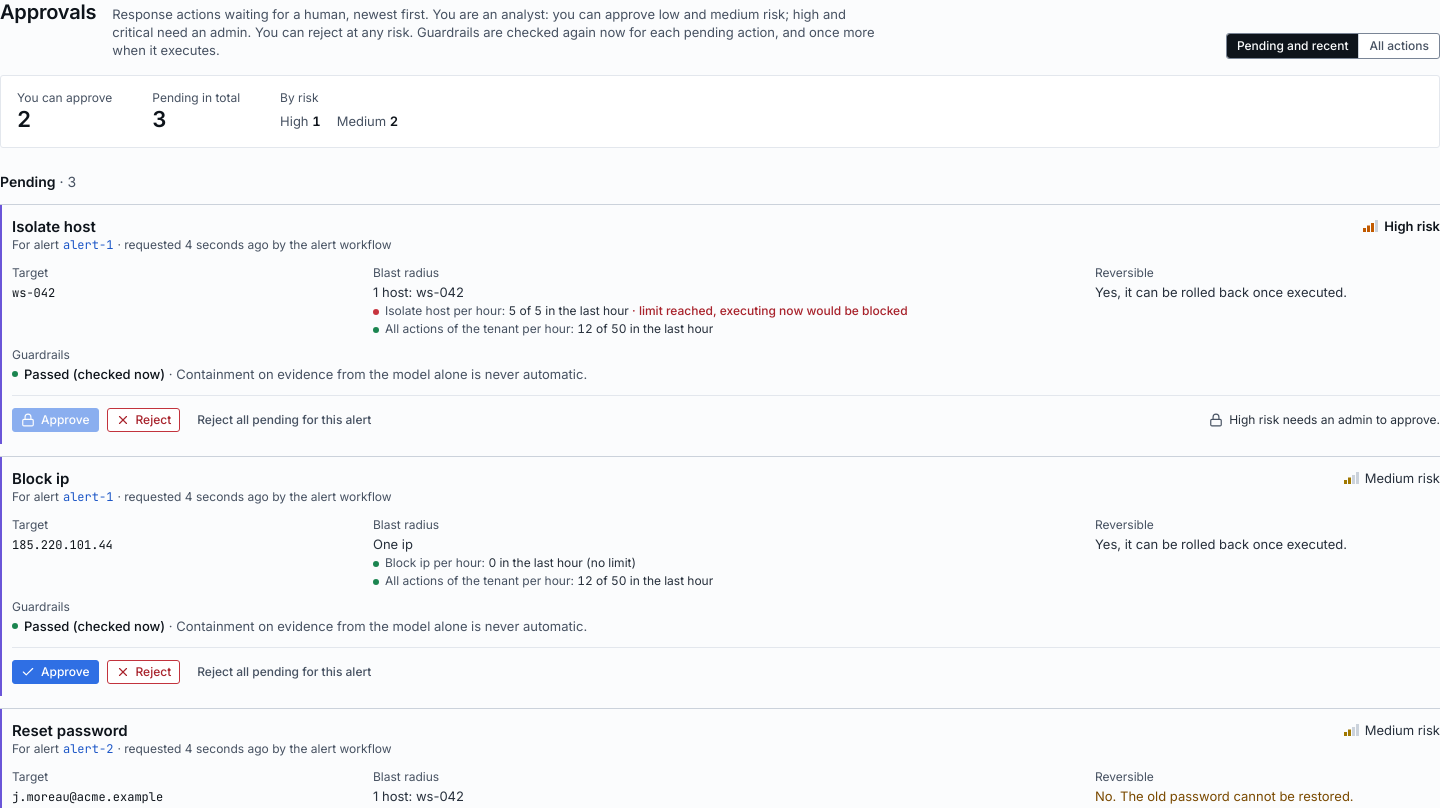
Test: ApprovalsPage: pending approvals › rejects one action, or all of the alert's pending actions at once
Later steps or results of the test are not shown.
Click the button "Reject" in the row of "High risk needs an admin to approve.". click: (143, 420)
box: left=106, top=408, right=180, bottom=432
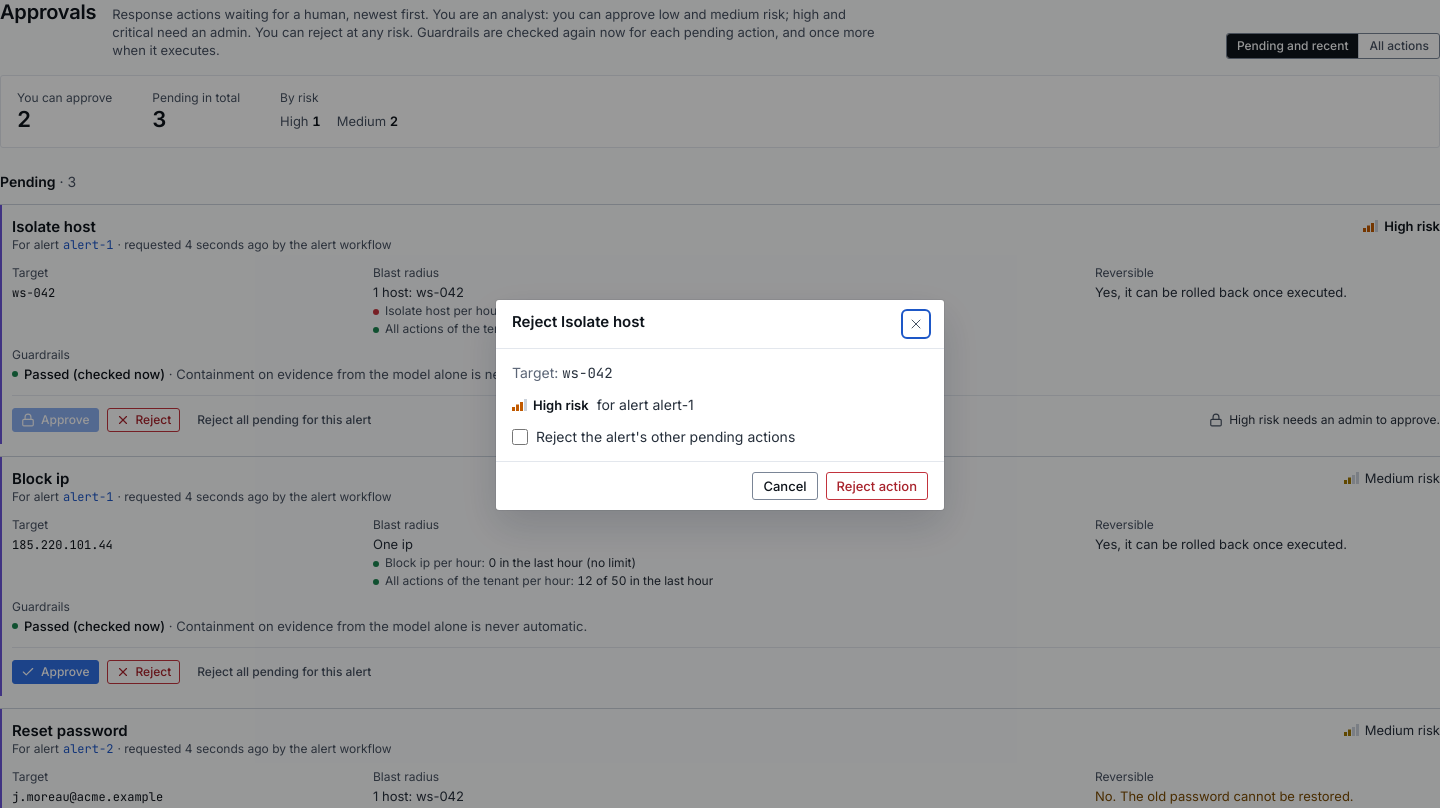
Expected: the checkbox labelled "Reject the alert's other pending actions" is not checked, left=512, top=429, right=528, bottom=445
Click the button "Reject action". click: (877, 486)
box: left=826, top=472, right=928, bottom=500
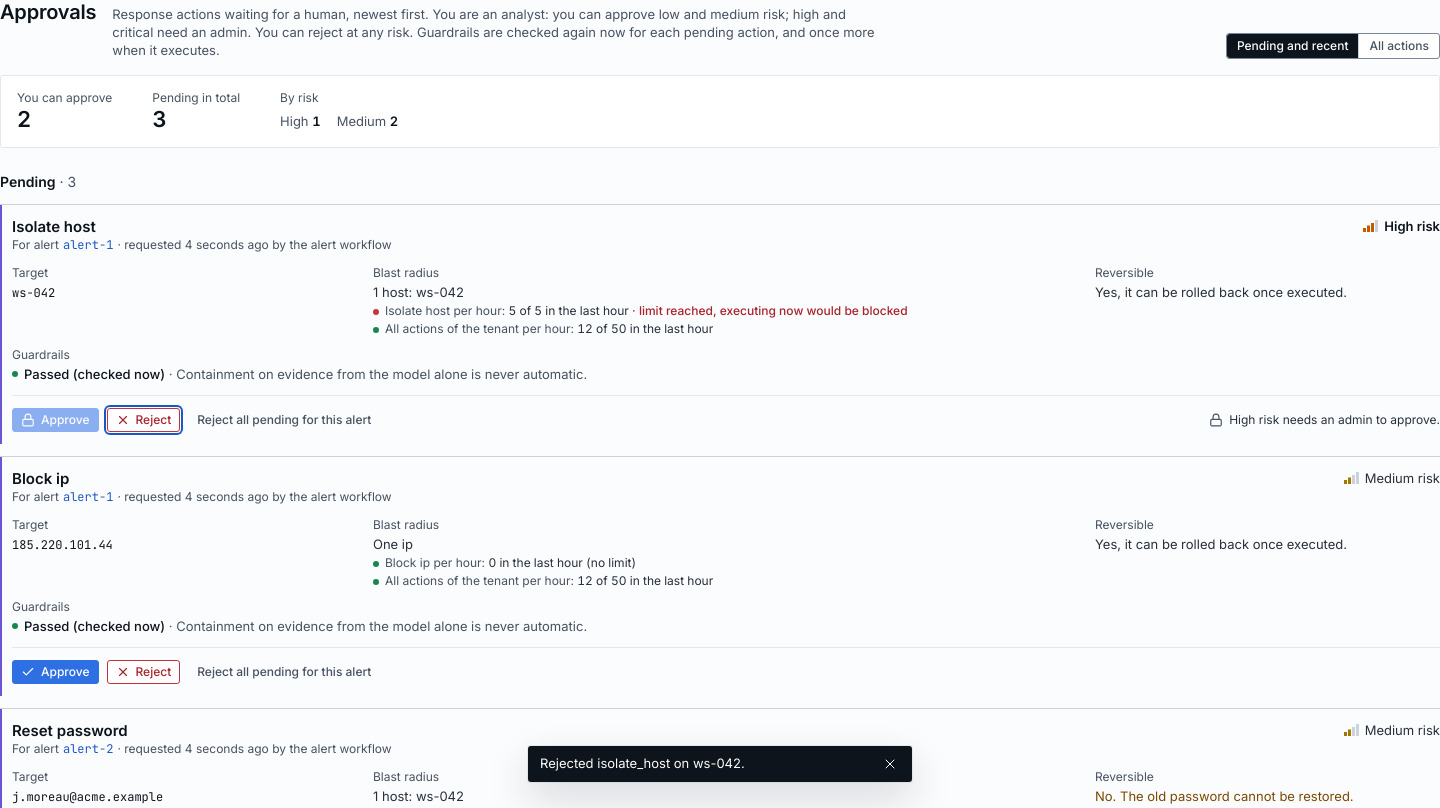
Expected: the dialog is gone
Click the button "Reject all pending for this alert" in the row of "High risk needs an admin to approve.". click: (284, 420)
box: left=188, top=408, right=380, bottom=432
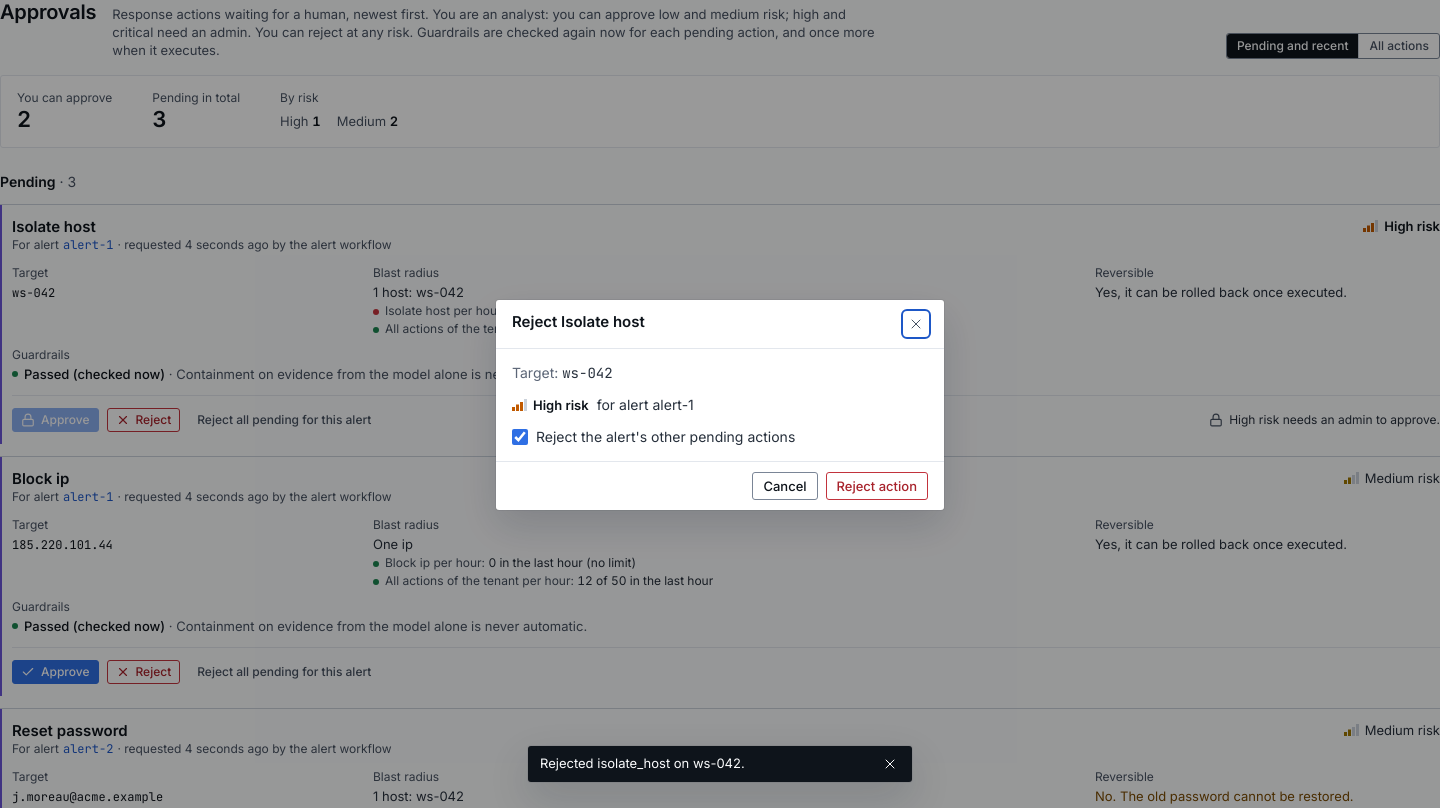
Expected: the checkbox labelled "Reject the alert's other pending actions" is checked, left=512, top=429, right=528, bottom=445
